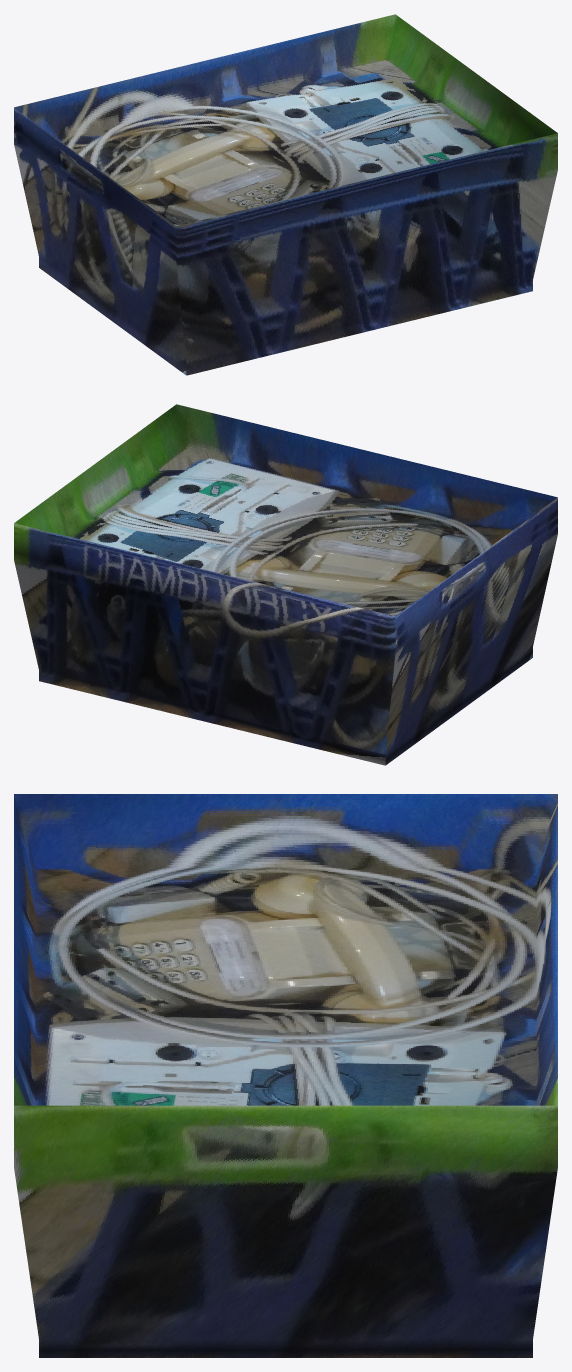
The model's file is phonecrate.glb.
3 views of the same model, one above another, from view 1: azimuth 30°, elevation 25°; view 2: azimuth 150°, elevation 25°; view 3: azimuth 270°, elevation 25° (orthographic). The views are drawn at different scales.
Visible parts, largest first — view 1: PhoneCrate; view 2: PhoneCrate; view 3: PhoneCrate.
Boxes of the visible parts, box(x1,y1,x2,y2) form: PhoneCrate: box(14, 14, 557, 375); PhoneCrate: box(14, 404, 557, 765); PhoneCrate: box(14, 794, 557, 1357).
Size of the model in its own units: 8 by 3.19 by 5.9.
1 material, 1 textured.
